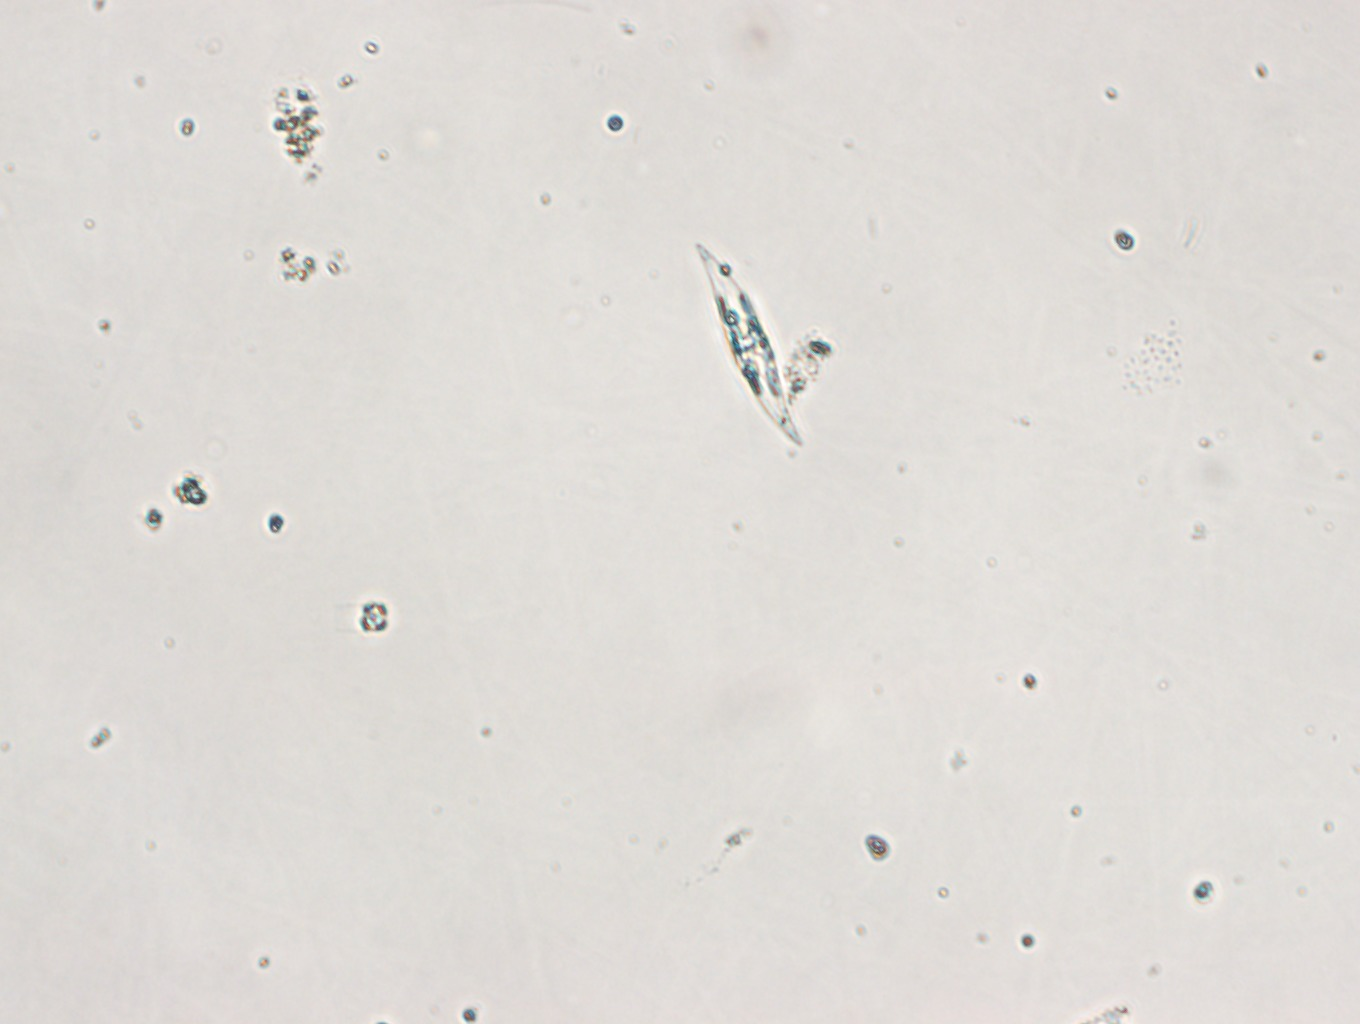pleurosigma pelagicum: (695, 242, 805, 451)
